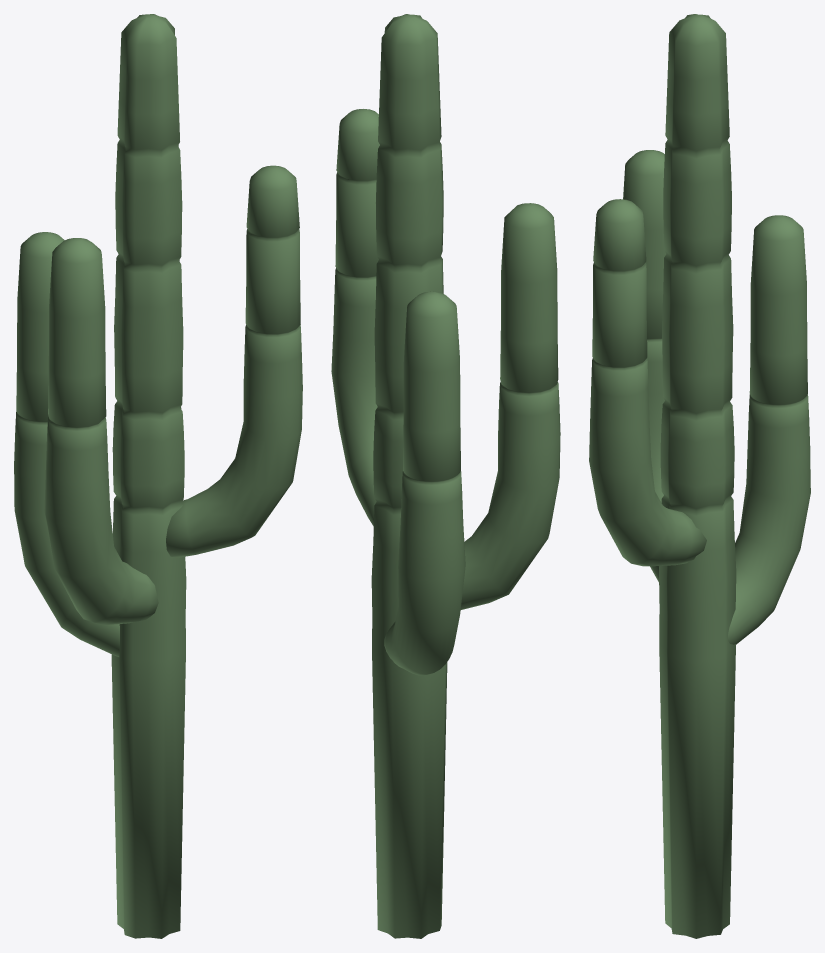
Rendered from CactusMedium.fbx.
3 views of the same model, side by side, from view 1: azimuth 30°, elevation 25°; view 2: azimuth 150°, elevation 25°; view 3: azimuth 270°, elevation 25° (orthographic).
Parts seen in each view (by area): view 1: Cylinder.008; view 2: Cylinder.008; view 3: Cylinder.008.
Part boxes in pixels (x1,y1,x2,y2): Cylinder.008: [14, 14, 302, 938]; Cylinder.008: [331, 14, 560, 938]; Cylinder.008: [589, 14, 810, 938].
Size of the model in its own units: 88.84 by 330 by 73.08.
